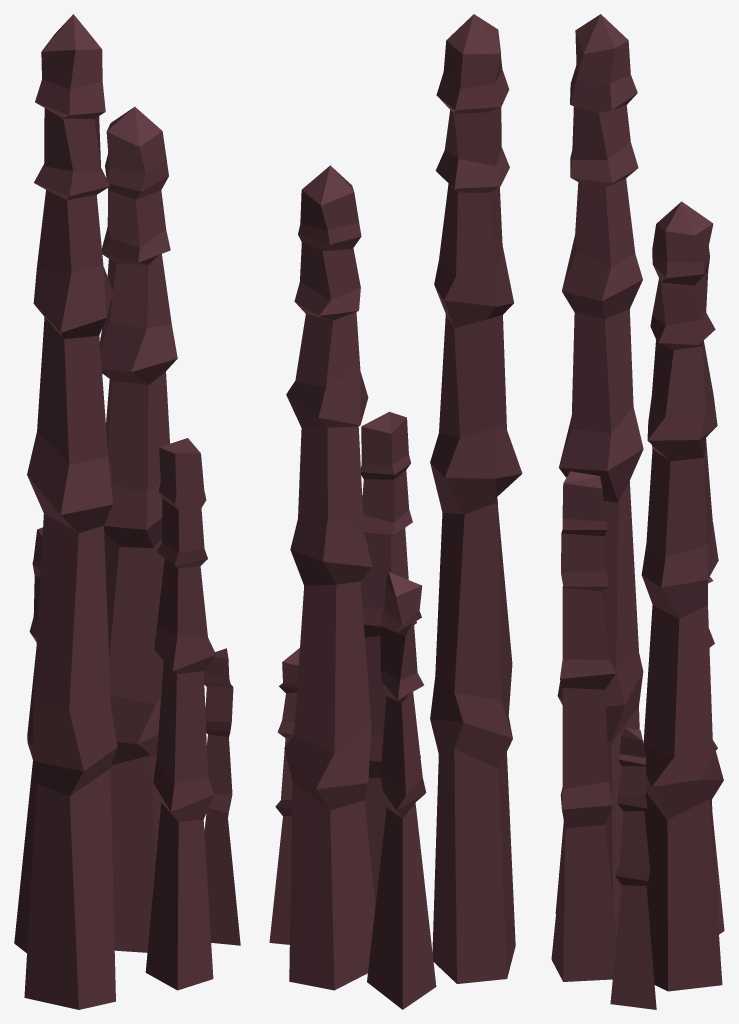
The model's file is SM_Horsetail_Prehistoric_Hight.fbx.
The picture shows the model from 3 angles, left to right: view 1: azimuth 30°, elevation 25°; view 2: azimuth 150°, elevation 25°; view 3: azimuth 270°, elevation 25°; orthographic projection. The views are drawn at different scales.
Parts seen in each view (by area): view 1: SM_Horsetail_Prehistoric_Hight; view 2: SM_Horsetail_Prehistoric_Hight; view 3: SM_Horsetail_Prehistoric_Hight.
Part boxes in pixels (<box>): SM_Horsetail_Prehistoric_Hight: <box>14,14,240,1009</box>; SM_Horsetail_Prehistoric_Hight: <box>269,14,522,1009</box>; SM_Horsetail_Prehistoric_Hight: <box>551,14,724,1009</box>.
Size of the model in its own units: 0.6191 by 2.61 by 0.4473.
